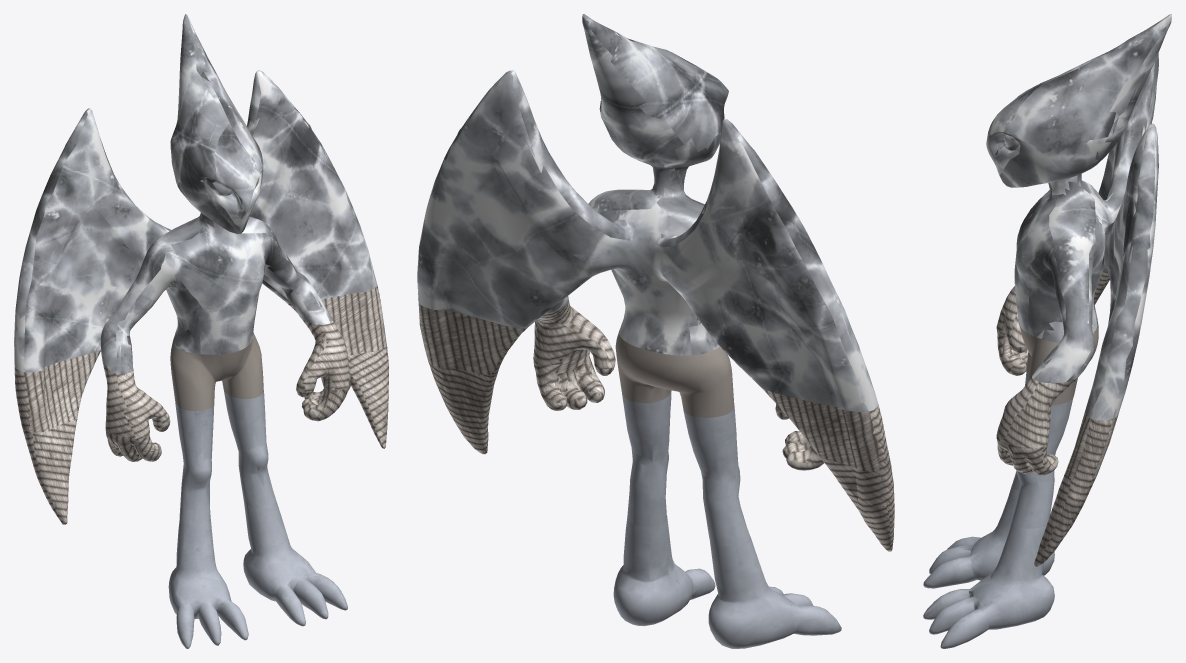
Rendered from 21-flyer--winged_humanoid_3d_model.glb.
3 views of the same model, side by side, from view 1: azimuth 30°, elevation 25°; view 2: azimuth 150°, elevation 25°; view 3: azimuth 270°, elevation 25° (orthographic). The views are drawn at different scales.
Parts seen in each view (by area): view 1: head_mesh, arms_mesh, feet_mesh, body_mesh; view 2: head_mesh, feet_mesh, arms_mesh, body_mesh; view 3: head_mesh, feet_mesh, arms_mesh, body_mesh.
Part boxes in pixels (bbox=[...]): head_mesh: bbox=[14, 14, 376, 373]; arms_mesh: bbox=[14, 284, 388, 524]; feet_mesh: bbox=[168, 390, 347, 648]; body_mesh: bbox=[170, 334, 263, 411]; head_mesh: bbox=[417, 14, 878, 412]; feet_mesh: bbox=[613, 391, 841, 648]; arms_mesh: bbox=[418, 300, 894, 551]; body_mesh: bbox=[615, 331, 734, 417]; head_mesh: bbox=[986, 14, 1171, 420]; feet_mesh: bbox=[923, 370, 1073, 648]; arms_mesh: bbox=[996, 271, 1118, 566]; body_mesh: bbox=[1019, 319, 1098, 405].
Bounding box in the file's own units: 2.12 × 3 × 1.12.
4 materials, 4 textured.
